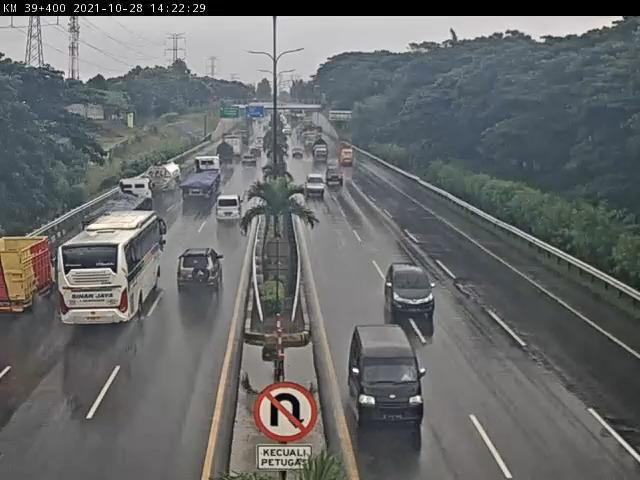bus: (57, 212, 167, 328)
car: (348, 325, 426, 426), (384, 261, 439, 321), (177, 247, 226, 295), (215, 195, 244, 225), (304, 174, 326, 198), (324, 164, 344, 187)
truck: (1, 235, 55, 315), (80, 176, 155, 228), (183, 155, 224, 199), (143, 160, 184, 196)
